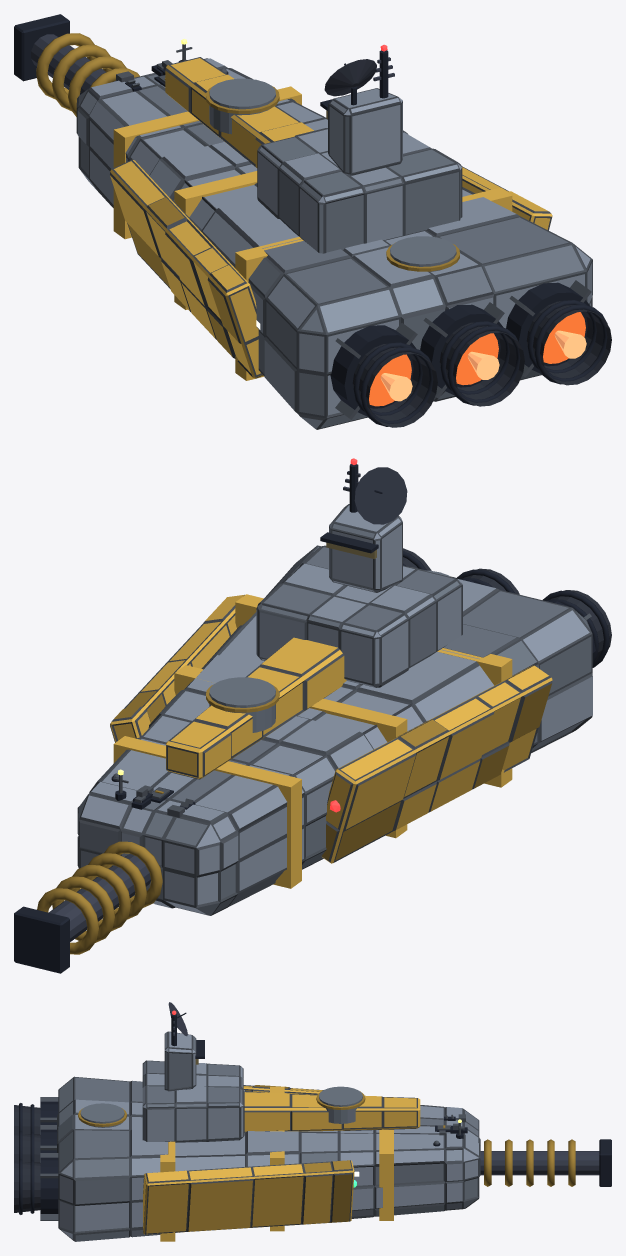
Rendered from vanguard.glb.
3 views of the same model, one above another, from view 1: azimuth 30°, elevation 25°; view 2: azimuth 150°, elevation 25°; view 3: azimuth 270°, elevation 25° (orthographic). The views are drawn at different scales.
Parts seen in each view (by area): view 1: vanguard_mesh, radar_mesh; view 2: vanguard_mesh, radar_mesh; view 3: vanguard_mesh.
Boxes of the visible parts, box(x1,y1,x2,y2) form: vanguard_mesh: box(14, 14, 611, 429); radar_mesh: box(324, 59, 376, 105); vanguard_mesh: box(14, 464, 611, 973); radar_mesh: box(354, 467, 407, 524); vanguard_mesh: box(14, 1014, 611, 1241).
Bounding box in the file's own units: 6.53 × 5.7 × 15.63.
